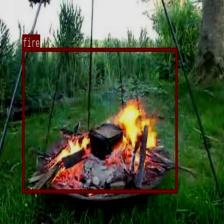fire: (22, 47, 177, 192)
